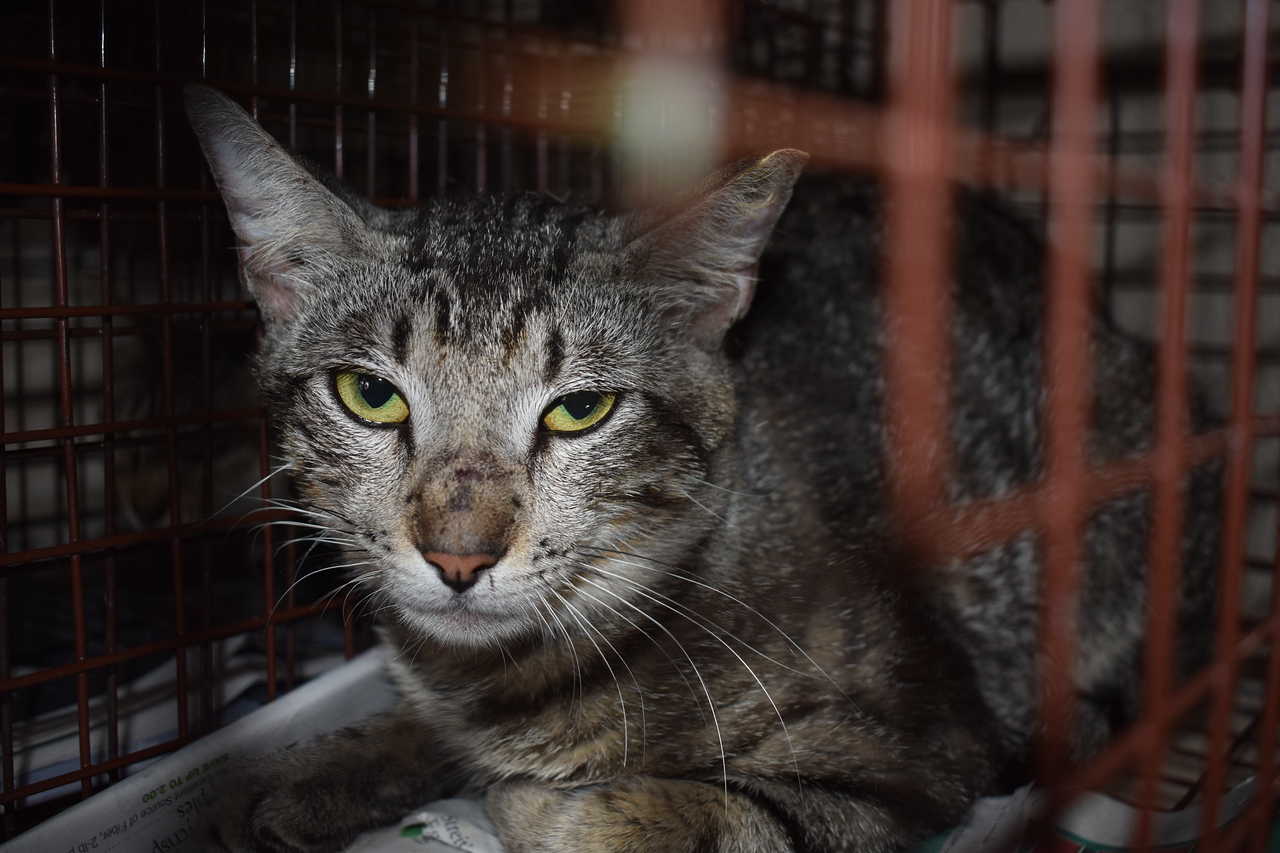Cat: (187, 79, 848, 687)
